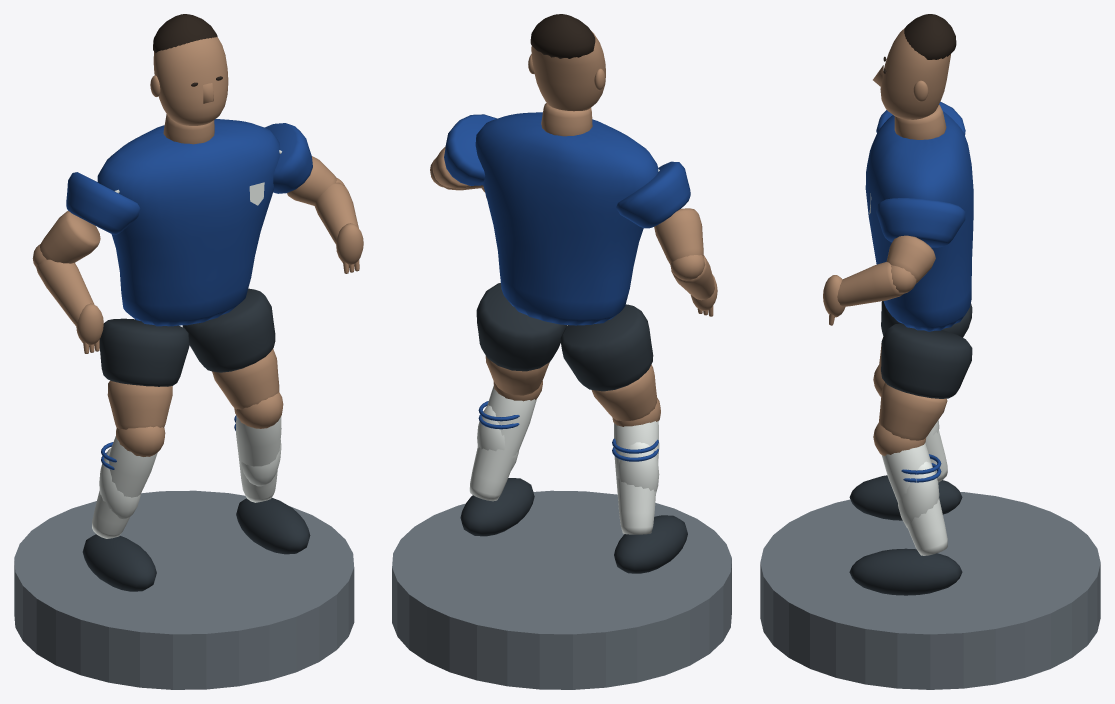
The model's file is player-reference.glb.
3 renders of one model, left to right at view 1: azimuth 30°, elevation 25°; view 2: azimuth 150°, elevation 25°; view 3: azimuth 270°, elevation 25°, orthographic.
Visible parts, largest first — view 1: PRP_pedestal, HERO_fitted_jersey, HERO_shorts, HERO_head, HERO_shorts.001, HERO_boot, HERO_boot.001, HERO_sleeve, HERO_sock, HERO_thigh, HERO_sock.001, HERO_thigh.001 (+13 smaller); view 2: PRP_pedestal, HERO_fitted_jersey, HERO_shorts, HERO_shorts.001, HERO_head, HERO_sock.001, HERO_sleeve, HERO_boot, HERO_sock, HERO_boot.001, DETAIL_hair, HERO_sleeve.001 (+9 smaller); view 3: PRP_pedestal, HERO_fitted_jersey, HERO_shorts.001, HERO_boot.001, HERO_head, HERO_sleeve.001, HERO_sock.001, HERO_thigh.001, HERO_boot, HERO_forearm.001, DETAIL_hair, HERO_upper_arm.001 (+6 smaller).
Part boxes in pixels (<box>): PRP_pedestal: <box>14,490,354,689</box>; HERO_fitted_jersey: <box>97,119,280,326</box>; HERO_shorts: <box>99,318,189,386</box>; HERO_head: <box>153,37,228,125</box>; HERO_shorts.001: <box>182,288,275,372</box>; HERO_boot: <box>82,534,156,591</box>; HERO_boot.001: <box>236,498,310,554</box>; HERO_sleeve: <box>66,172,140,234</box>; HERO_sock: <box>92,436,157,538</box>; HERO_thigh: <box>107,380,172,429</box>; HERO_sock.001: <box>236,416,281,502</box>; HERO_thigh.001: <box>212,348,279,409</box>; PRP_pedestal: <box>392,490,731,689</box>; HERO_fitted_jersey: <box>475,112,658,325</box>; HERO_shorts: <box>560,304,653,391</box>; HERO_shorts.001: <box>476,283,567,371</box>; HERO_head: <box>531,31,605,111</box>; HERO_sock.001: <box>469,385,536,501</box>; HERO_sleeve: <box>616,161,690,228</box>; HERO_boot: <box>614,515,687,573</box>; HERO_sock: <box>614,421,659,534</box>; HERO_boot.001: <box>460,478,534,536</box>; DETAIL_hair: <box>530,14,595,58</box>; HERO_sleeve.001: <box>444,114,496,185</box>; PRP_pedestal: <box>760,492,1100,689</box>; HERO_fitted_jersey: <box>865,111,973,331</box>; HERO_shorts.001: <box>881,323,972,398</box>; HERO_boot.001: <box>849,548,962,595</box>; HERO_head: <box>880,28,950,119</box>; HERO_sleeve.001: <box>876,198,965,247</box>; HERO_sock.001: <box>881,443,947,555</box>; HERO_thigh.001: <box>879,382,947,440</box>; HERO_boot: <box>849,475,962,520</box>; HERO_forearm.001: <box>837,262,903,306</box>; DETAIL_hair: <box>904,14,956,59</box>; HERO_upper_arm.001: <box>886,235,935,283</box>.
Size of the model in its own units: 0.5 by 0.9766 by 0.5.
